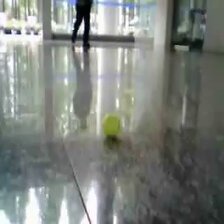tennis: (102, 114, 121, 135)
